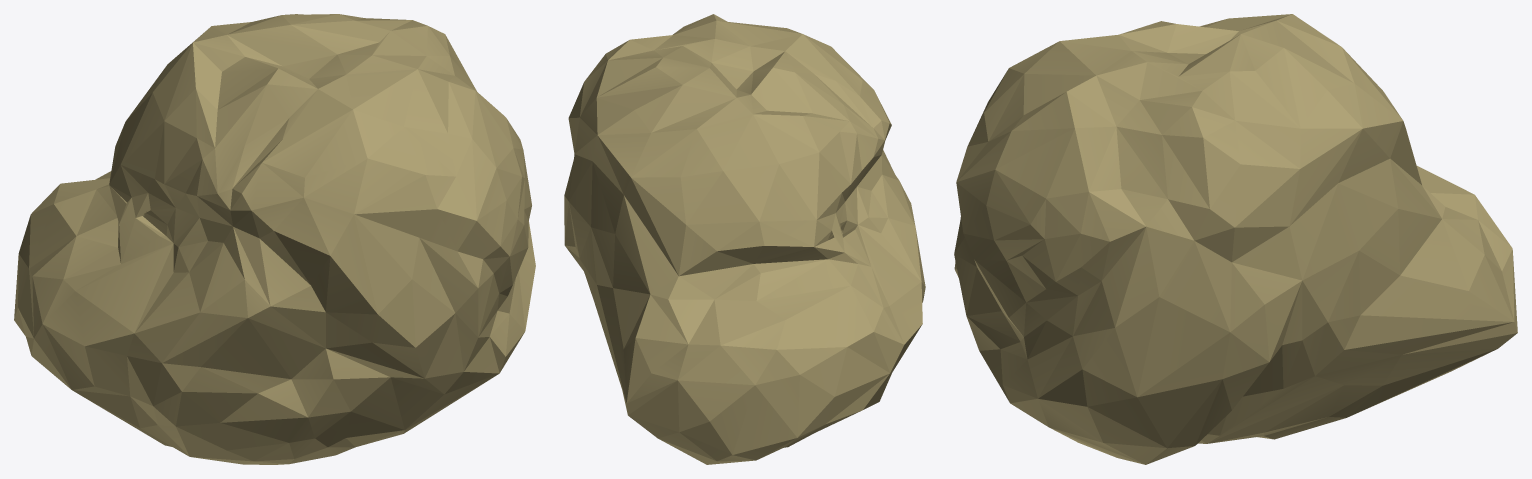
File: SM_rock_92.fbx
The picture shows the model from 3 angles, left to right: view 1: azimuth 30°, elevation 25°; view 2: azimuth 150°, elevation 25°; view 3: azimuth 270°, elevation 25°; orthographic projection. The views are drawn at different scales.
Visible parts, largest first — view 1: rock_92; view 2: rock_92; view 3: rock_92.
Boxes of the visible parts, <box> form: rock_92: <box>14,14,535,464</box>; rock_92: <box>564,14,925,464</box>; rock_92: <box>954,14,1517,464</box>.
Size of the model in its own units: 167 by 154 by 183.
